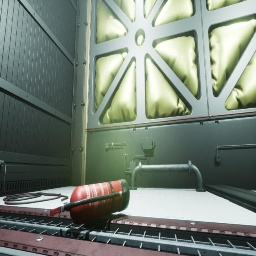FireExtinguisher ]: (50, 179, 130, 225)
